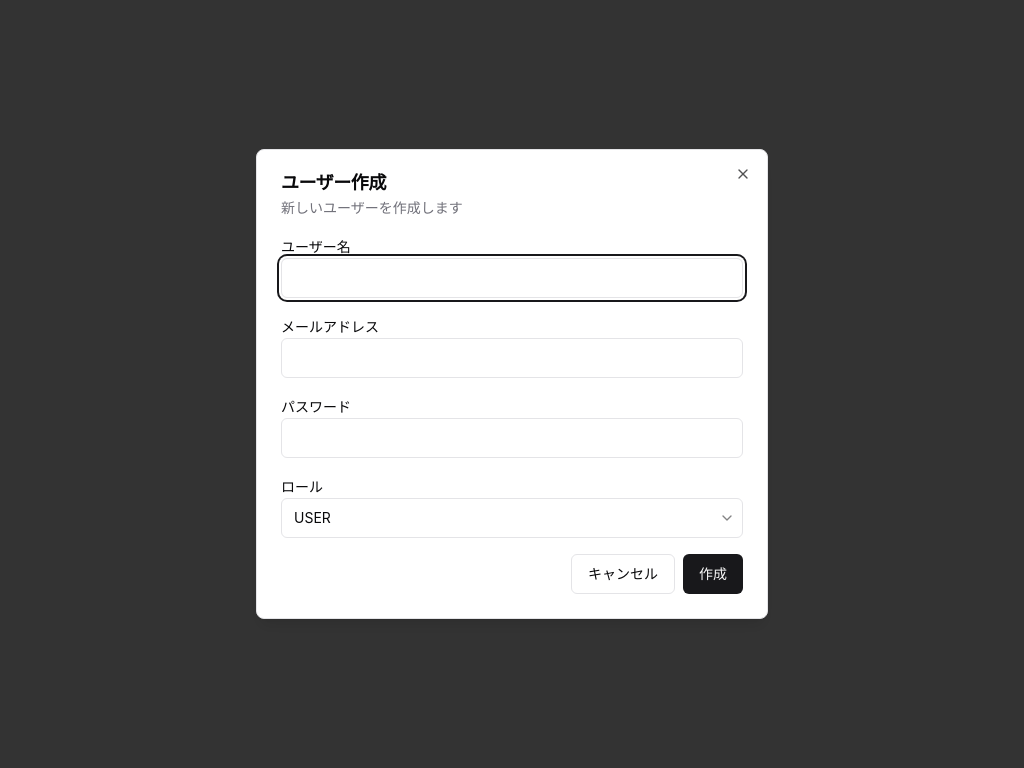
Test: UserFormDialog: 作成モード › password バリデーションエラーを表示する
Type "user" into the field labelled "ユーザー名" at (512, 278), box [281,258,743,298]
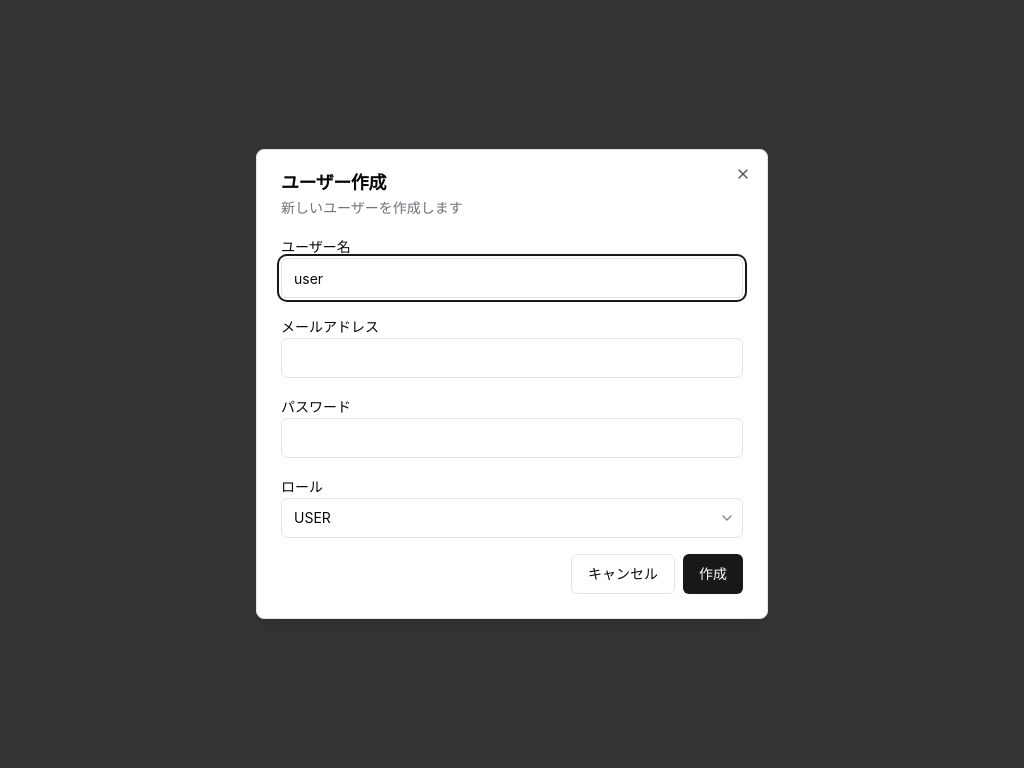
Type "u@u.com" into the field labelled "メールアドレス" at (512, 358), box [281,338,743,378]
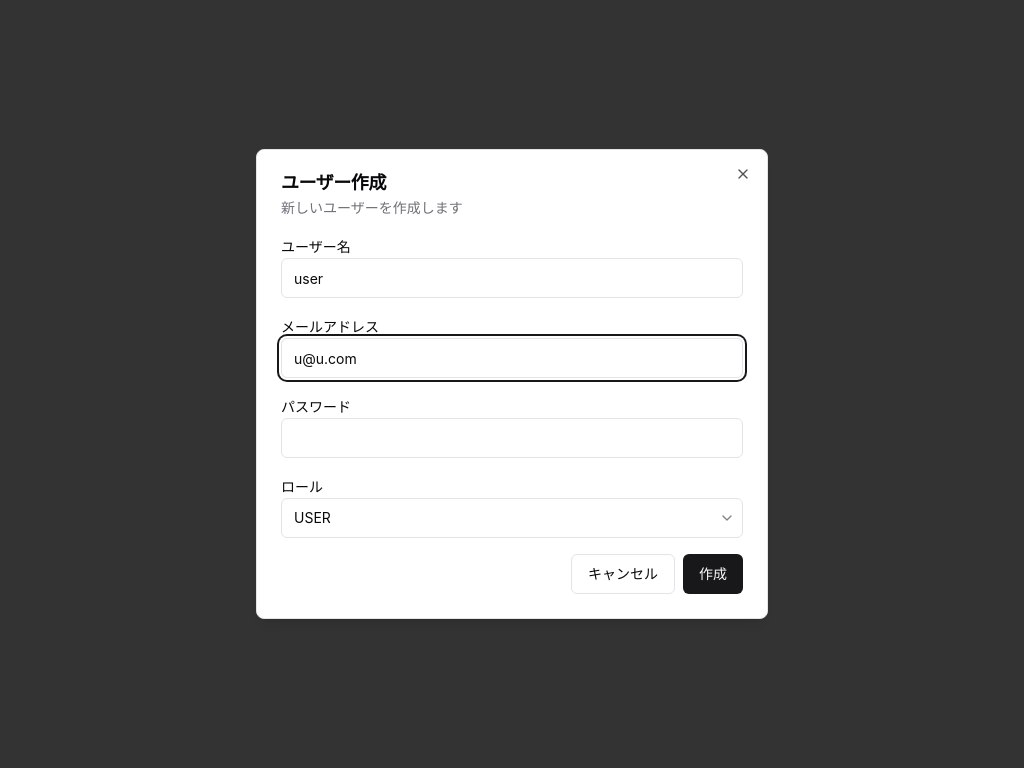
Type "weak" into the password field labelled "パスワード" at (512, 438), box [281,418,743,458]
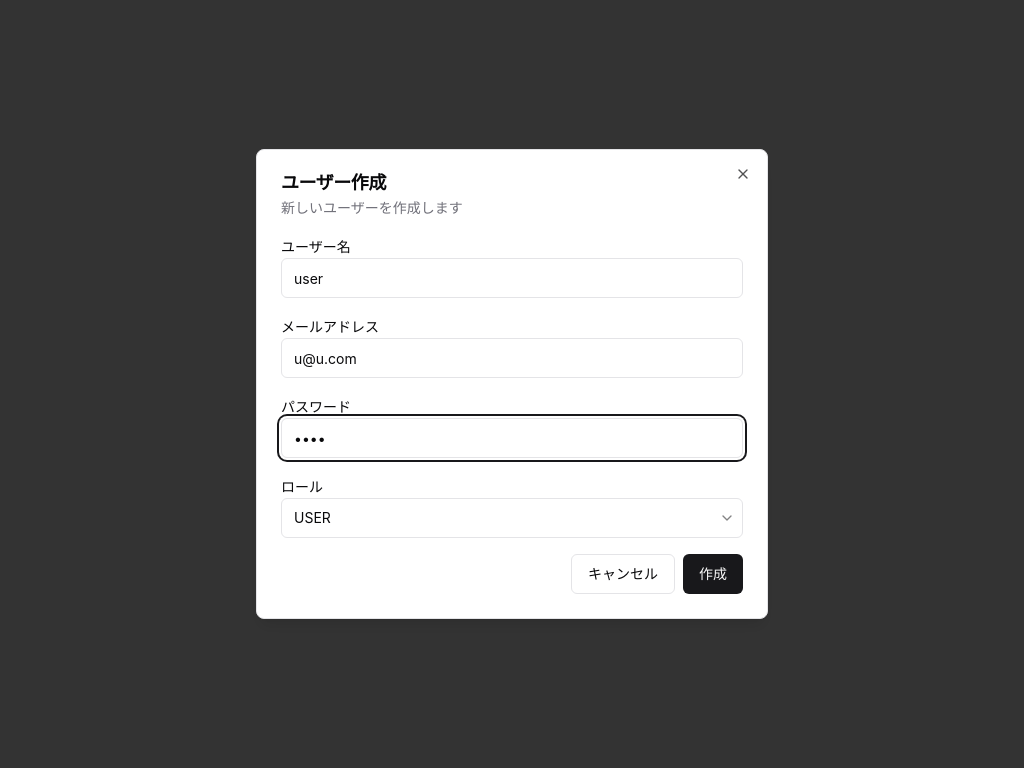
Click the button "作成" at (713, 574), box [683,554,743,594]
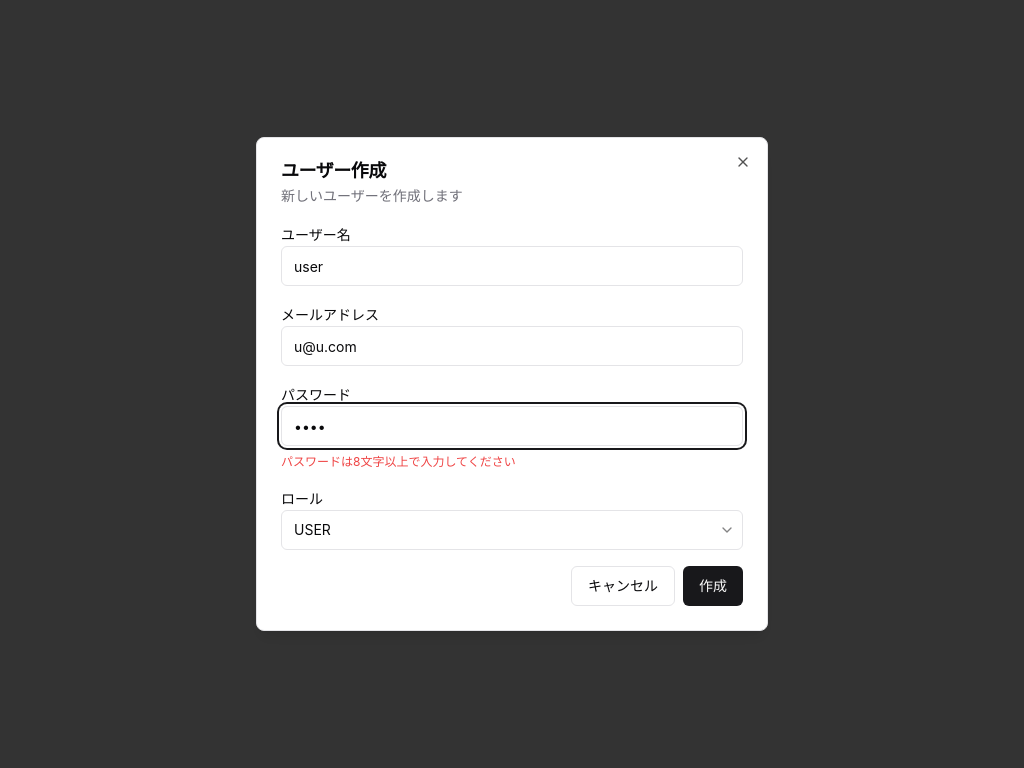
Now the text "パスワードは8文字以上で入力してください" is shown, box [281,454,516,469]
